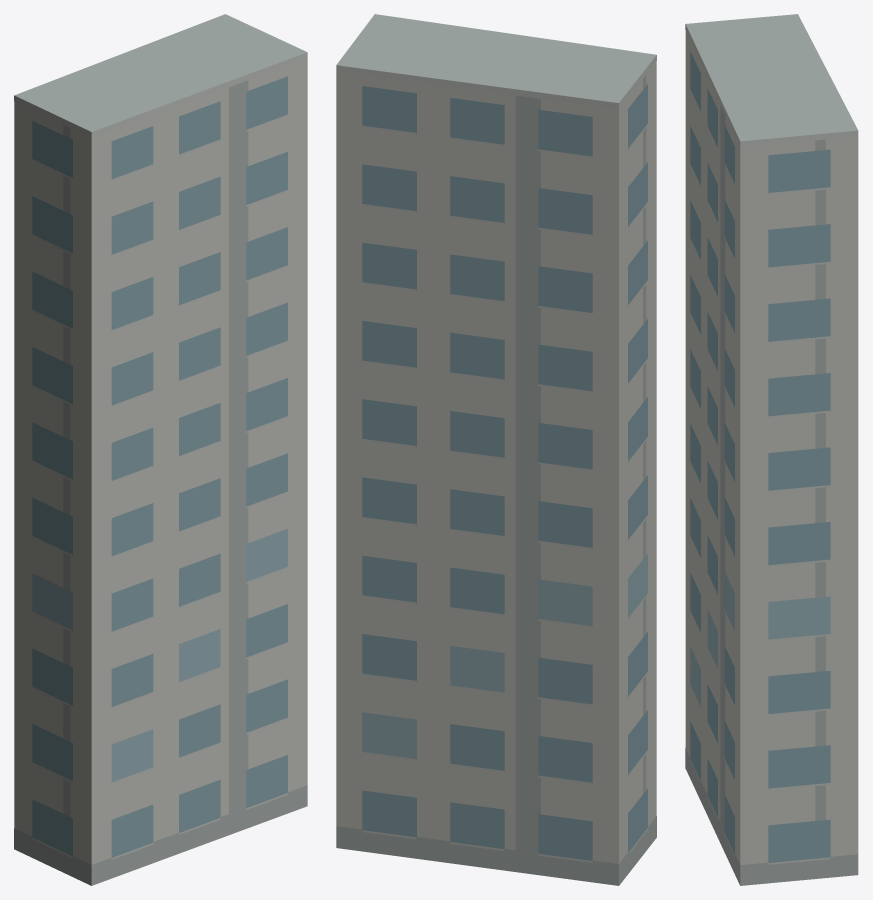
File: survey-upis-32997154.glb
3 renders of one model, left to right at view 1: azimuth 30°, elevation 25°; view 2: azimuth 150°, elevation 25°; view 3: azimuth 270°, elevation 25°, orthographic. The views are drawn at different scales.
Visible parts, largest first — view 1: survey-upis-32997154.tmp; view 2: survey-upis-32997154.tmp; view 3: survey-upis-32997154.tmp.
Boxes of the visible parts, x1=… form: survey-upis-32997154.tmp: x1=14, y1=14, x2=307, y2=885; survey-upis-32997154.tmp: x1=336, y1=14, x2=656, y2=885; survey-upis-32997154.tmp: x1=685, y1=14, x2=858, y2=885.
Size of the model in its own units: 11.2 by 30.5 by 6.43.
